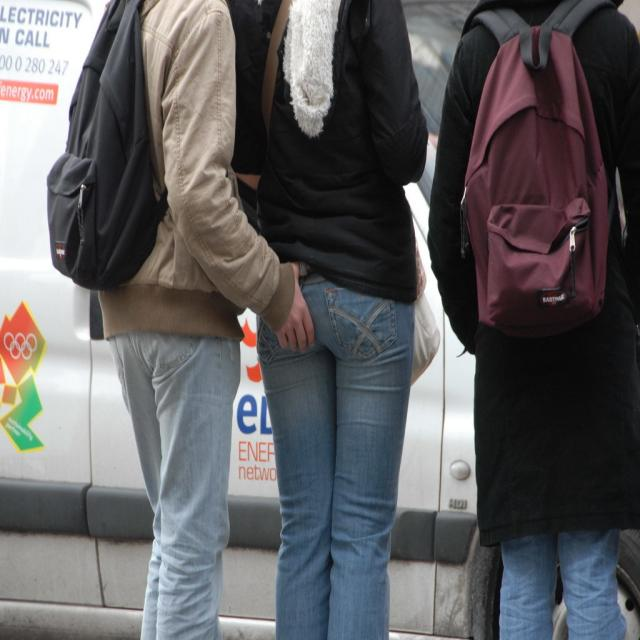backpack: (456, 9, 614, 334), (41, 3, 166, 268)
